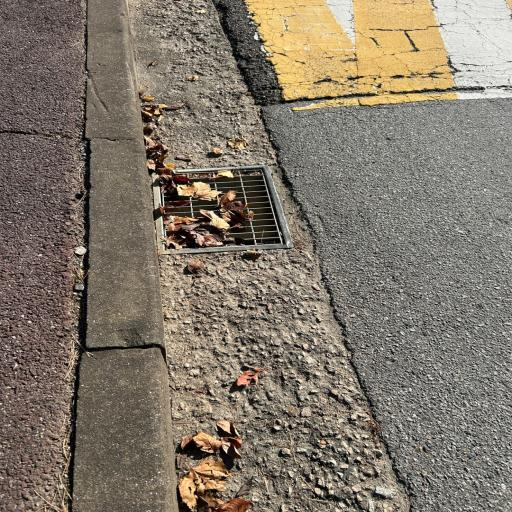debris: (196, 232, 221, 240), (235, 223, 240, 227), (244, 233, 247, 236)
drain: (167, 170, 283, 243)
